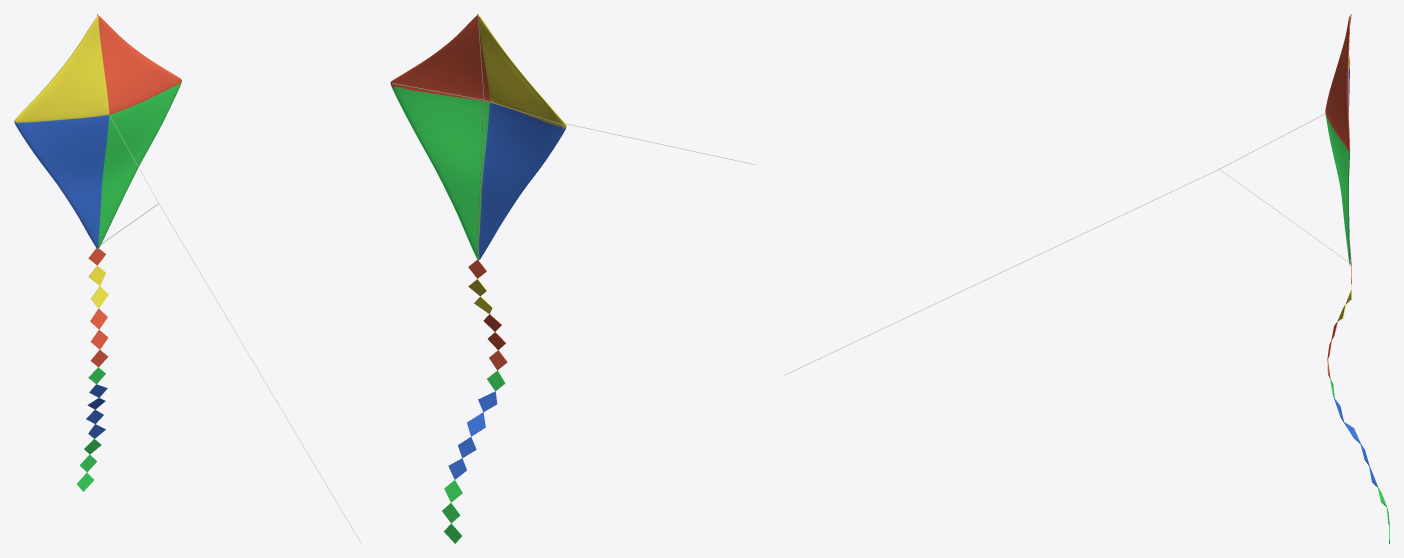
The model's file is kite.glb.
3 renders of one model, left to right at view 1: azimuth 30°, elevation 25°; view 2: azimuth 150°, elevation 25°; view 3: azimuth 270°, elevation 25°, orthographic. The views are drawn at different scales.
Visible parts, largest first — view 1: Plane_0, Plane.002_2, Plane.003_3; view 2: Plane_0, Plane.002_2, Plane.001_1; view 3: Plane_0, Plane.003_3, Plane.002_2.
Boxes of the visible parts, x1,y1,x2,y2 form: Plane_0: [14, 15, 181, 249]; Plane.002_2: [77, 248, 108, 491]; Plane.003_3: [98, 115, 361, 543]; Plane_0: [390, 14, 566, 260]; Plane.002_2: [442, 259, 507, 543]; Plane.001_1: [391, 14, 564, 259]; Plane_0: [1325, 15, 1350, 266]; Plane.003_3: [784, 113, 1350, 375]; Plane.002_2: [1327, 265, 1389, 543].
Size of the model in its own units: 1.47 by 4.1 by 4.27.
3 materials, 2 textured.
